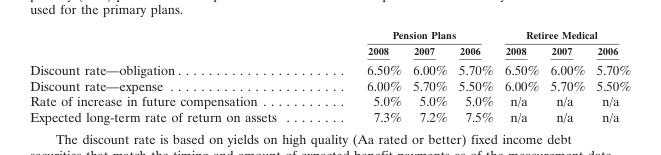table: (29, 28, 630, 123)
table column: (29, 28, 321, 123), (321, 28, 406, 123), (406, 28, 452, 123), (452, 28, 498, 123), (498, 28, 544, 123), (544, 28, 590, 123), (590, 28, 630, 123)
table column header: (29, 28, 630, 59)
table row: (29, 59, 630, 77), (29, 42, 630, 59), (29, 92, 630, 108), (29, 77, 630, 92), (29, 108, 630, 123), (29, 28, 630, 42)
table spanning cell: (321, 28, 498, 42), (498, 28, 630, 42)
